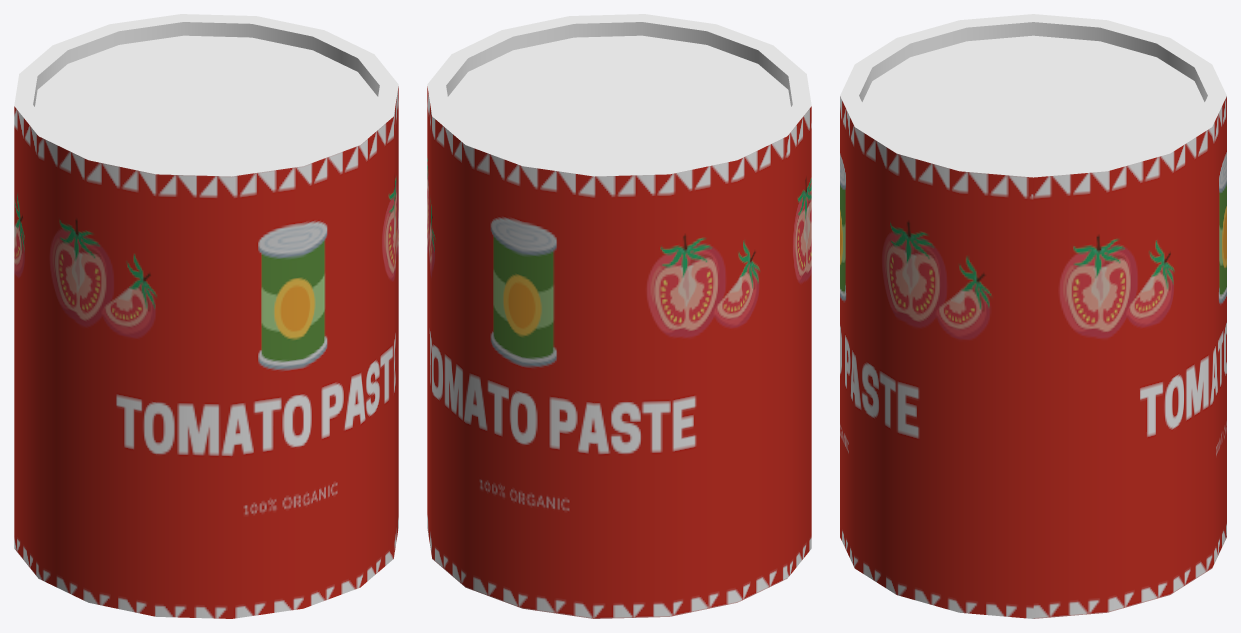
The model's file is Canned_Food_1.fbx.
3 views of the same model, side by side, from view 1: azimuth 30°, elevation 25°; view 2: azimuth 150°, elevation 25°; view 3: azimuth 270°, elevation 25° (orthographic).
Parts seen in each view (by area): view 1: CannedFood_1; view 2: CannedFood_1; view 3: CannedFood_1.
Part boxes in pixels (x1,y1,x2,y2): CannedFood_1: (14,14,398,618); CannedFood_1: (427,14,811,618); CannedFood_1: (840,14,1226,618).
Bounding box in the file's own units: 11.05 × 13.91 × 11.05.
